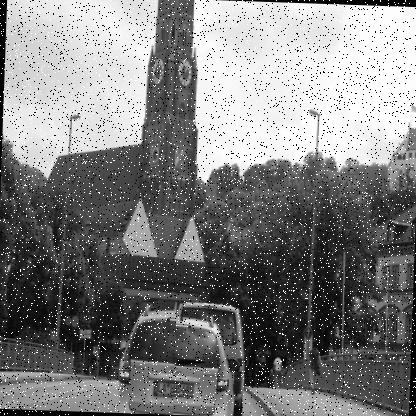Car: (118, 299, 243, 415), (172, 301, 255, 415)
